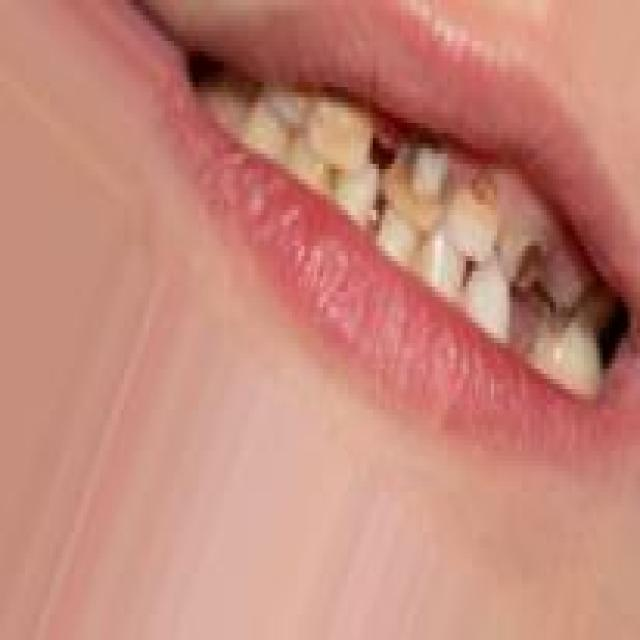caries: (378, 126, 448, 233), (453, 158, 498, 244), (504, 224, 550, 306)
